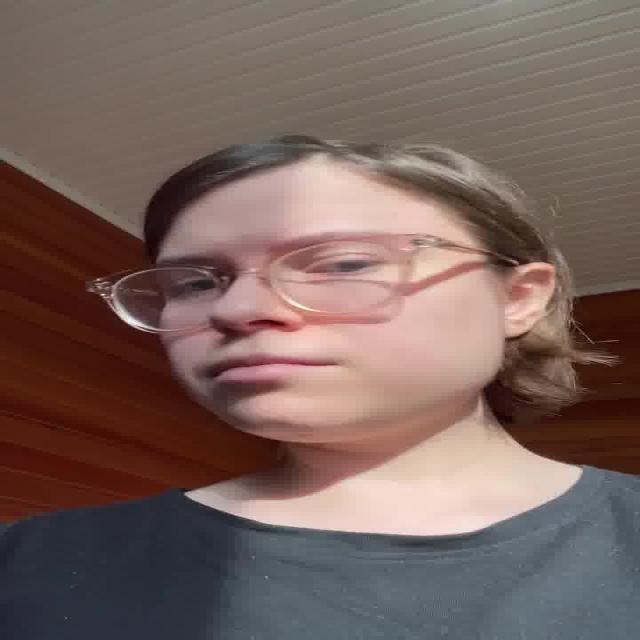earlobe: (500, 314, 535, 338)
eye: (297, 255, 382, 278), (168, 276, 225, 294)
nose: (212, 327, 302, 352)
wholeear: (500, 262, 556, 338)
